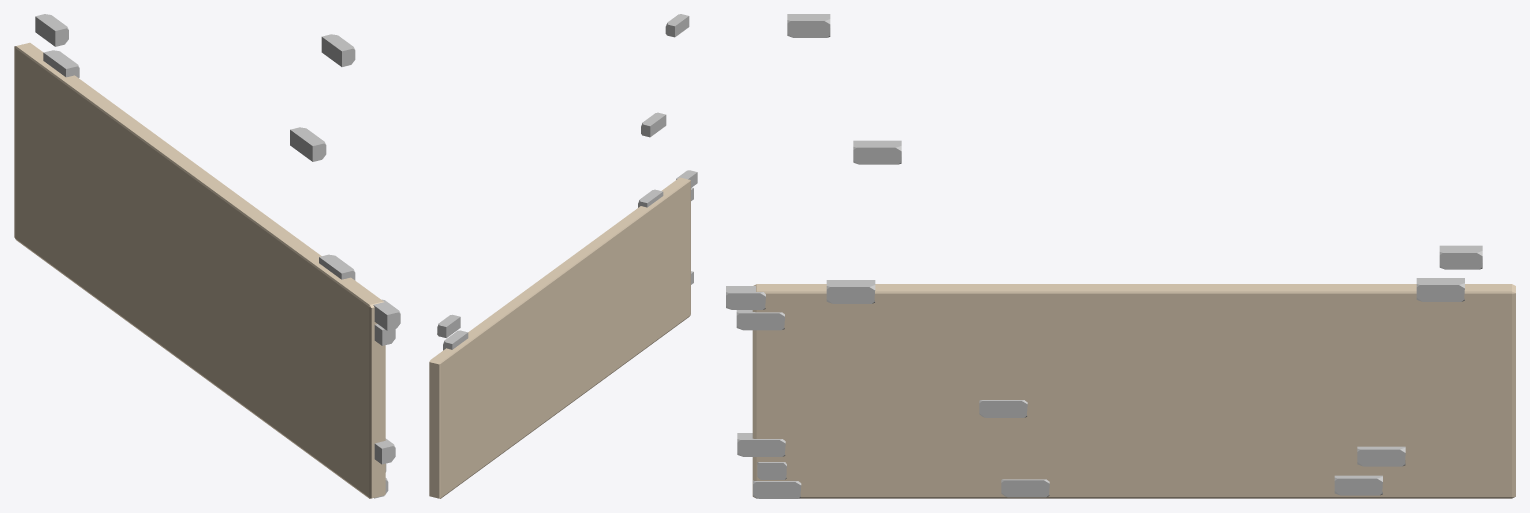
Rendered from Windowsill_set.fbx.
3 renders of one model, left to right at view 1: azimuth 30°, elevation 25°; view 2: azimuth 150°, elevation 25°; view 3: azimuth 270°, elevation 25°, orthographic. The views are drawn at different scales.
Visible parts, largest first — view 1: Windowsill; view 2: Windowsill; view 3: Windowsill.
Part boxes in pixels (bbox=[...]): Windowsill: bbox=[14, 14, 400, 498]; Windowsill: bbox=[429, 14, 697, 498]; Windowsill: bbox=[726, 14, 1515, 498].
Size of the model in its own units: 12.19 by 151 by 230.
